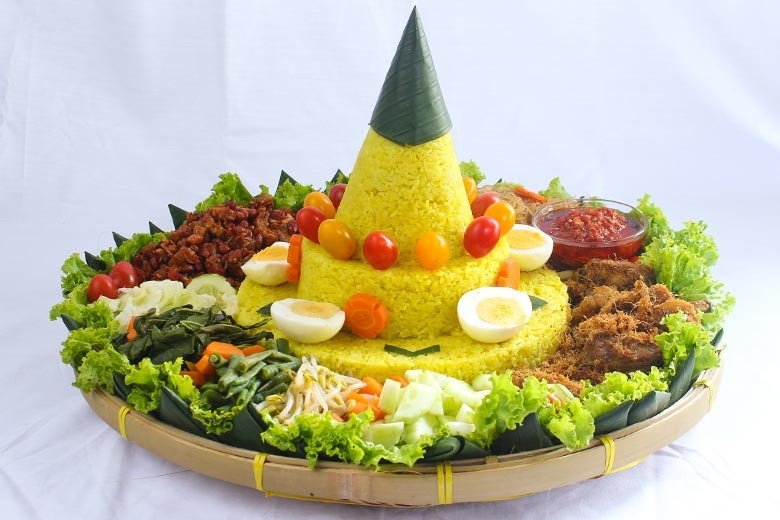nasi_tumpeng: (91, 4, 695, 446)
